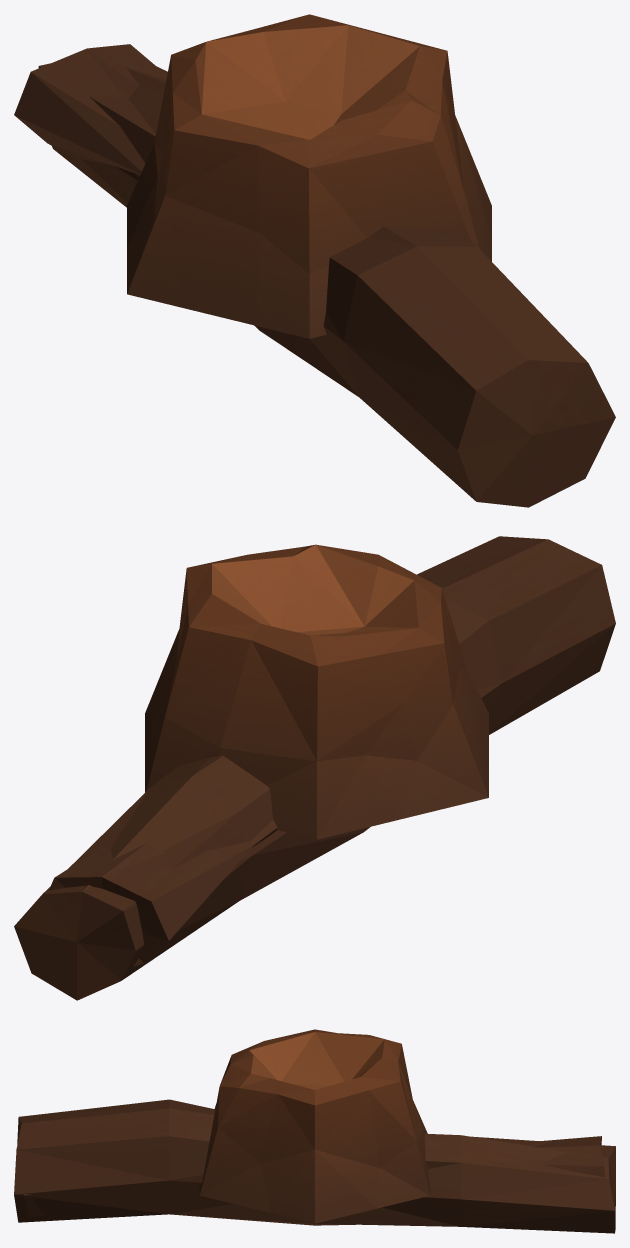
The model's file is Log.fbx.
3 renders of one model, top to bottom at view 1: azimuth 30°, elevation 25°; view 2: azimuth 150°, elevation 25°; view 3: azimuth 270°, elevation 25°, orthographic. The views are drawn at different scales.
Parts seen in each view (by area): view 1: Log_C, Log_B, Log_A; view 2: Log_C, Log_B, Log_A; view 3: Log_B, Log_C, Log_A.
Part boxes in pixels (bbox=[...]): Log_C: bbox=[127, 14, 491, 338]; Log_B: bbox=[38, 63, 615, 507]; Log_A: bbox=[14, 44, 167, 175]; Log_C: bbox=[145, 544, 488, 839]; Log_B: bbox=[14, 536, 615, 1000]; Log_A: bbox=[49, 820, 277, 966]; Log_B: bbox=[14, 1099, 615, 1233]; Log_C: bbox=[199, 1029, 430, 1223]; Log_A: bbox=[23, 1136, 604, 1216].
Size of the model in its own units: 239 by 169 by 541.
1 material, 1 textured.
